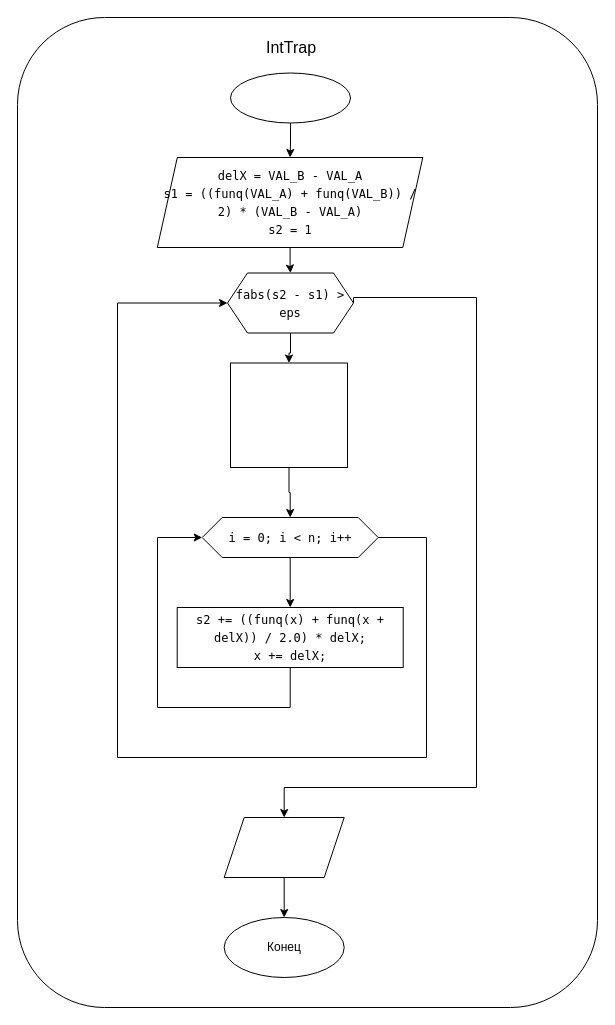
Some shapes in this 615 by 1025 pixel diagram are drawn without their labels. Each missing label, with the centre of its shape:
s2, n: [283,847]
x = VAL_A ; s1 = s2 ; s2 = 0 ; n *= 2 ; delX /= 2.0 ;: [289,415]
Начало: [290,97]
